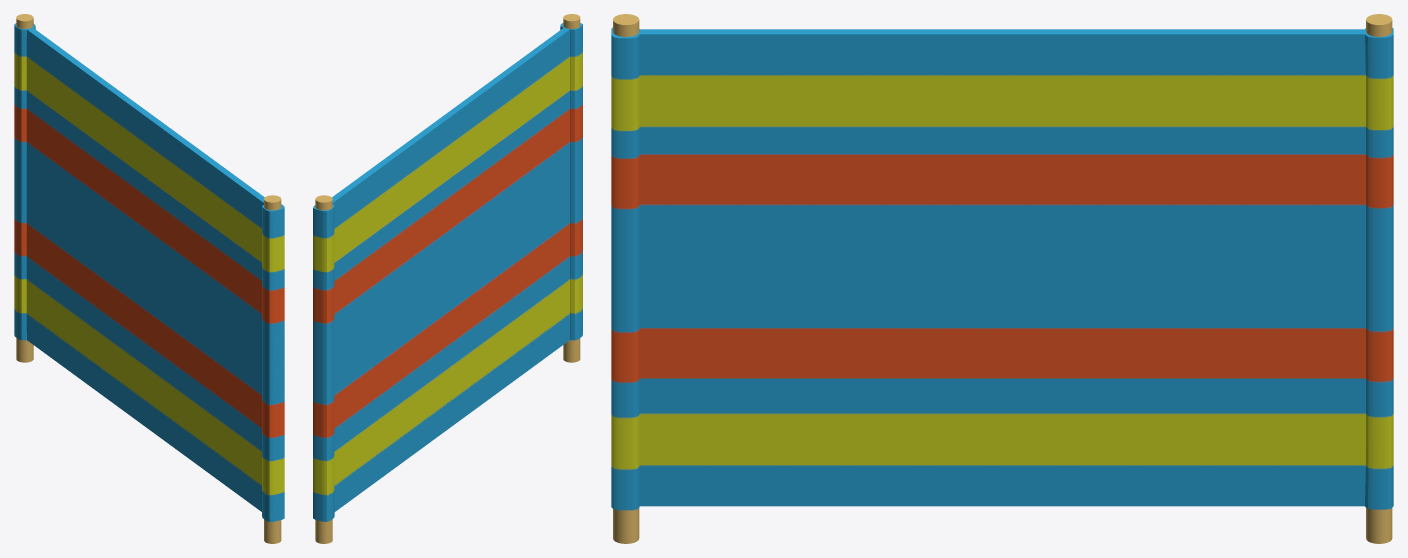
Rendered from WindBreaker_Fixed New.fbx.
3 renders of one model, left to right at view 1: azimuth 30°, elevation 25°; view 2: azimuth 150°, elevation 25°; view 3: azimuth 270°, elevation 25°, orthographic. The views are drawn at different scales.
Parts seen in each view (by area): view 1: pCube4, pCylinder6, pCylinder7; view 2: pCube4, pCylinder7, pCylinder6; view 3: pCube4, pCylinder7, pCylinder6.
Part boxes in pixels (box(x1,y1,x2,y2)): pCube4: box(14, 23, 284, 521); pCylinder6: box(264, 195, 281, 543); pCylinder7: box(16, 14, 33, 362); pCube4: box(313, 23, 582, 521); pCylinder7: box(315, 195, 332, 543); pCylinder6: box(563, 14, 580, 362); pCube4: box(611, 27, 1393, 510); pCylinder7: box(1366, 14, 1392, 543); pCylinder6: box(613, 14, 639, 543).
Size of the model in its own units: 0.0703 by 1.3 by 1.78.
Materials: 2 (1 with a texture image).
